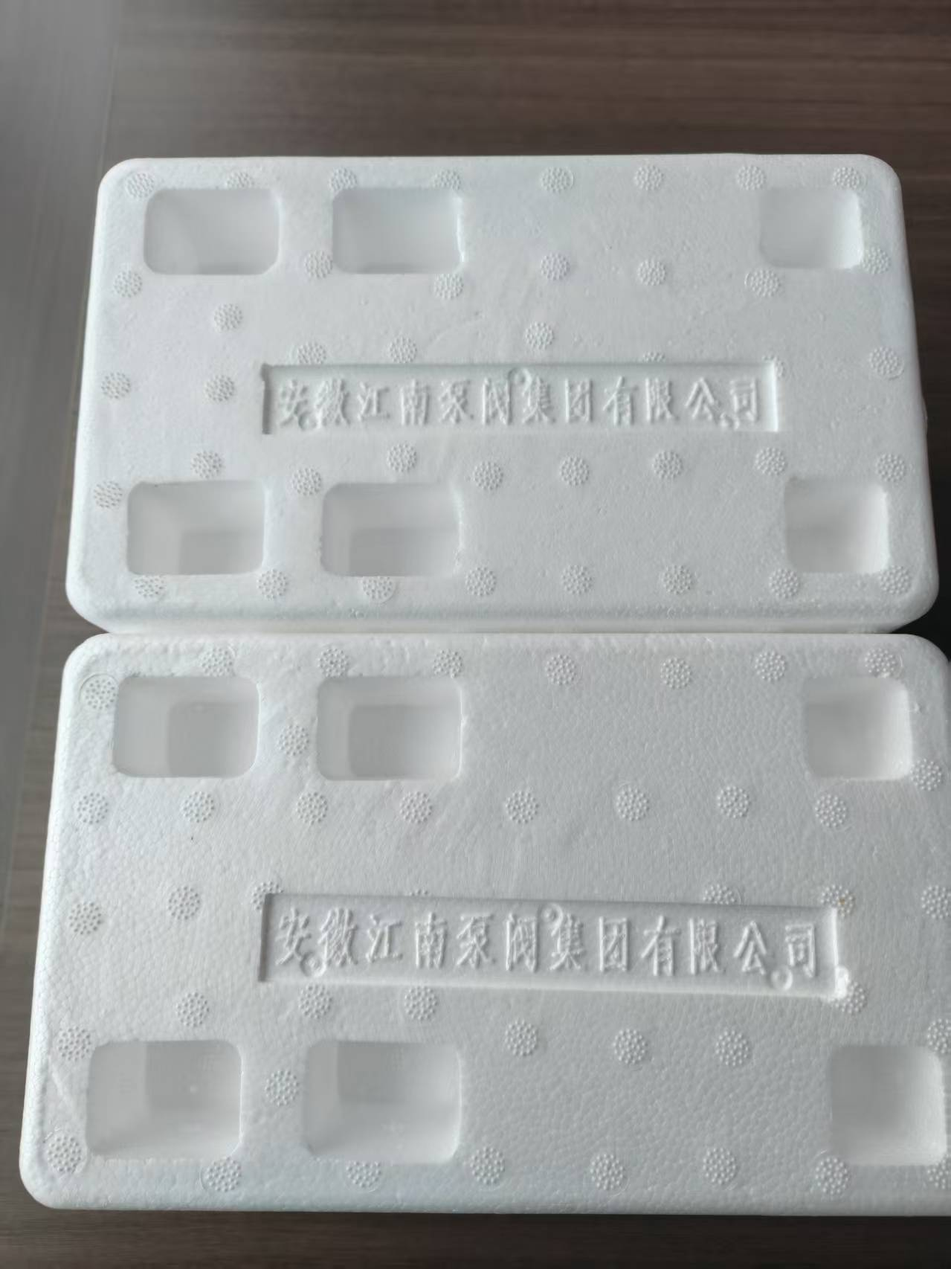Boxes: (20, 155, 951, 1212)
